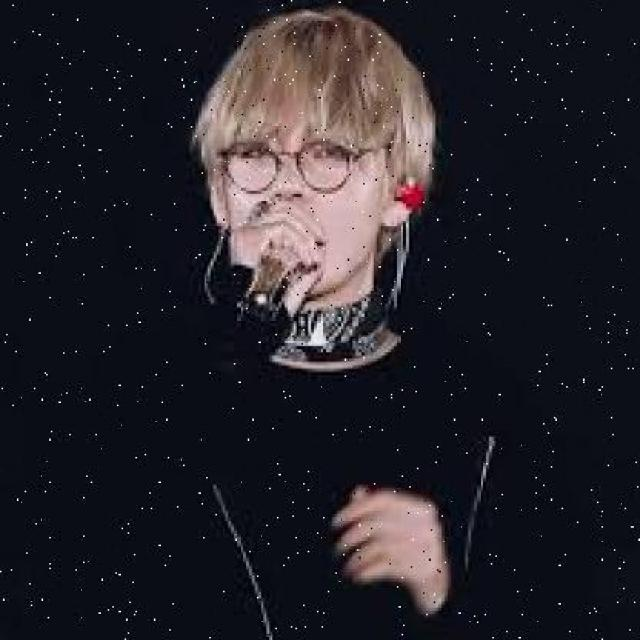glasses: (213, 129, 373, 197)
